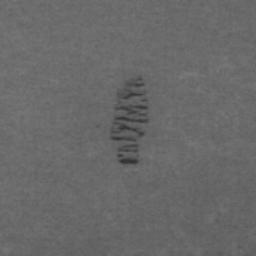Secondary rust skin: (109, 80, 150, 166)
